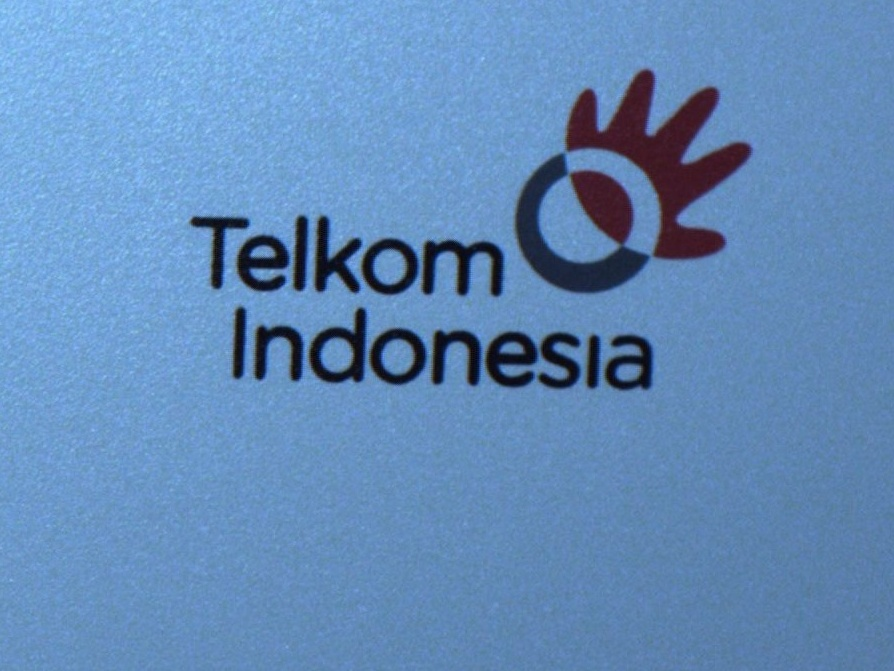BQ_IndonTelkom: (173, 64, 754, 416)
